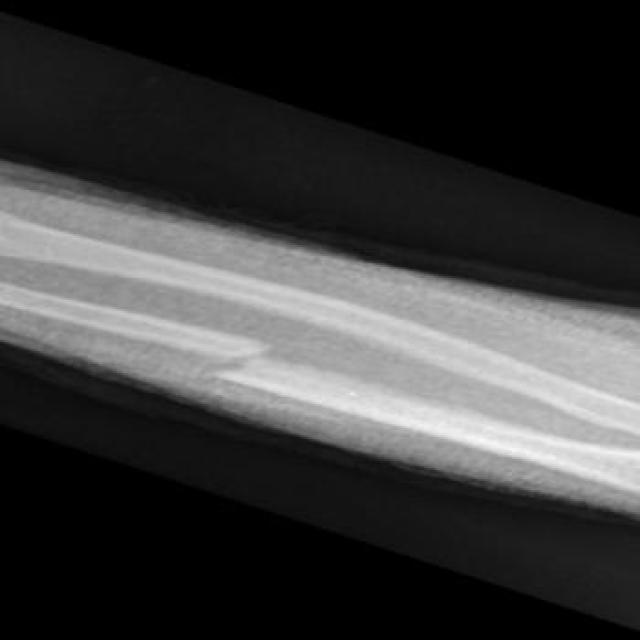Fracture: (192, 336, 293, 385)
